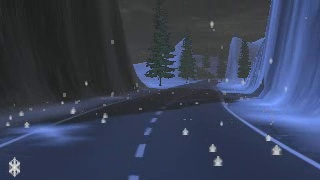Lane: (0, 78, 319, 179)
